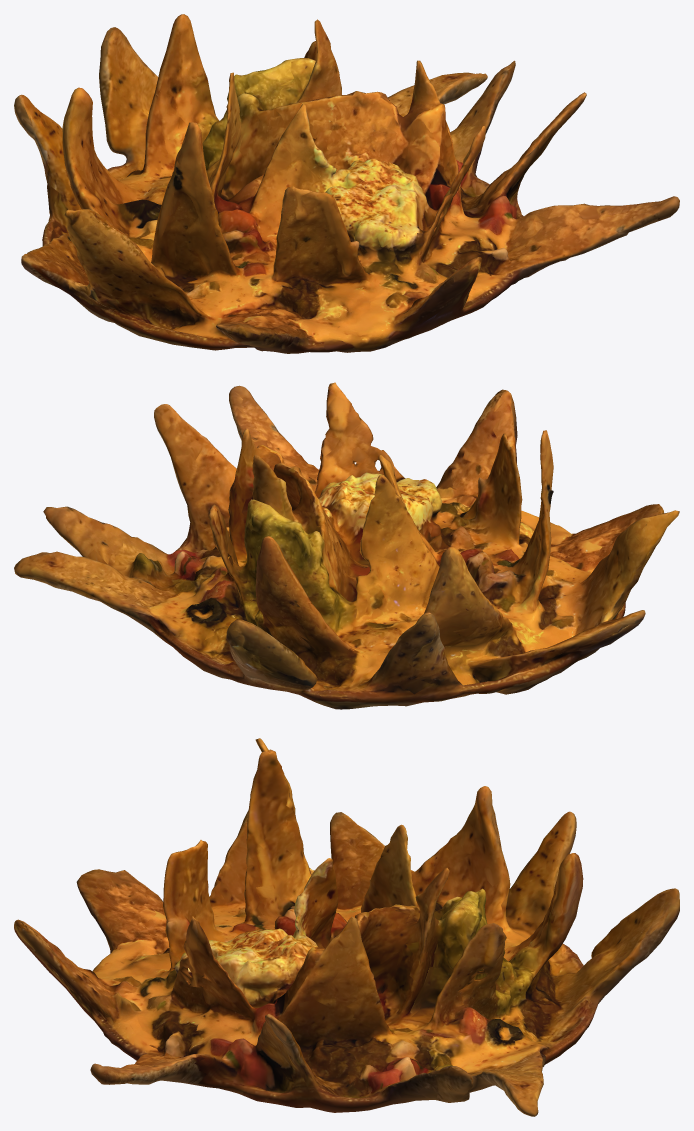
File: nachos.glb
The picture shows the model from 3 angles, top to bottom: view 1: azimuth 30°, elevation 25°; view 2: azimuth 150°, elevation 25°; view 3: azimuth 270°, elevation 25°; orthographic projection. The views are drawn at different scales.
Visible parts, largest first — view 1: ObjectCapture; view 2: ObjectCapture; view 3: ObjectCapture.
Boxes of the visible parts, x1,y1,x2,y2 form: ObjectCapture: [14, 14, 679, 353]; ObjectCapture: [14, 382, 679, 709]; ObjectCapture: [14, 738, 679, 1116].
Size of the model in its own units: 0.8804 by 0.3072 by 0.8867.
Materials: 1 (1 with a texture image).
